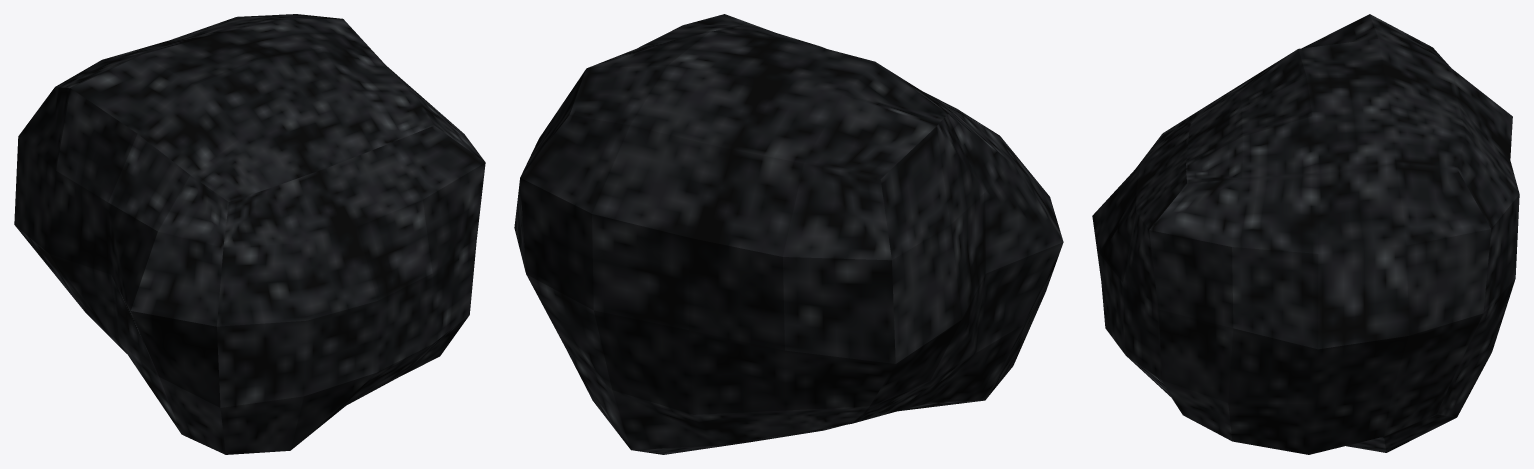
Rendered from SM_EC_Rock_19.fbx.
3 renders of one model, left to right at view 1: azimuth 30°, elevation 25°; view 2: azimuth 150°, elevation 25°; view 3: azimuth 270°, elevation 25°, orthographic. The views are drawn at different scales.
Parts seen in each view (by area): view 1: SM_EC_Rock_19; view 2: SM_EC_Rock_19; view 3: SM_EC_Rock_19.
Part boxes in pixels (x1,y1,x2,y2): SM_EC_Rock_19: (14,14,485,454); SM_EC_Rock_19: (514,14,1063,454); SM_EC_Rock_19: (1092,14,1519,454).
Size of the model in its own units: 0.5672 by 0.5319 by 0.4707.
